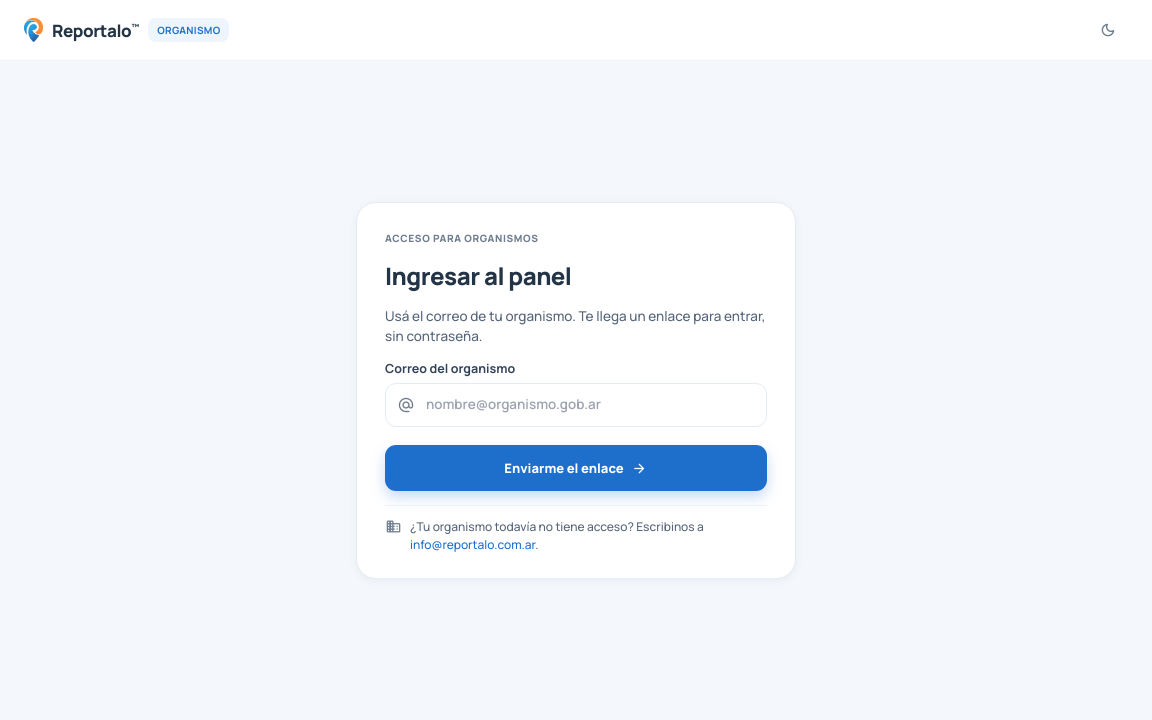
Test: REP-3747 · ingreso del panel › UT-3747-I3: formato inválido o falla de red: lo dice y no cambia de pantalla
Type "sin-arroba" into the field labelled "Correo del organismo". click: (576, 405)
box: [385,383,767,427]
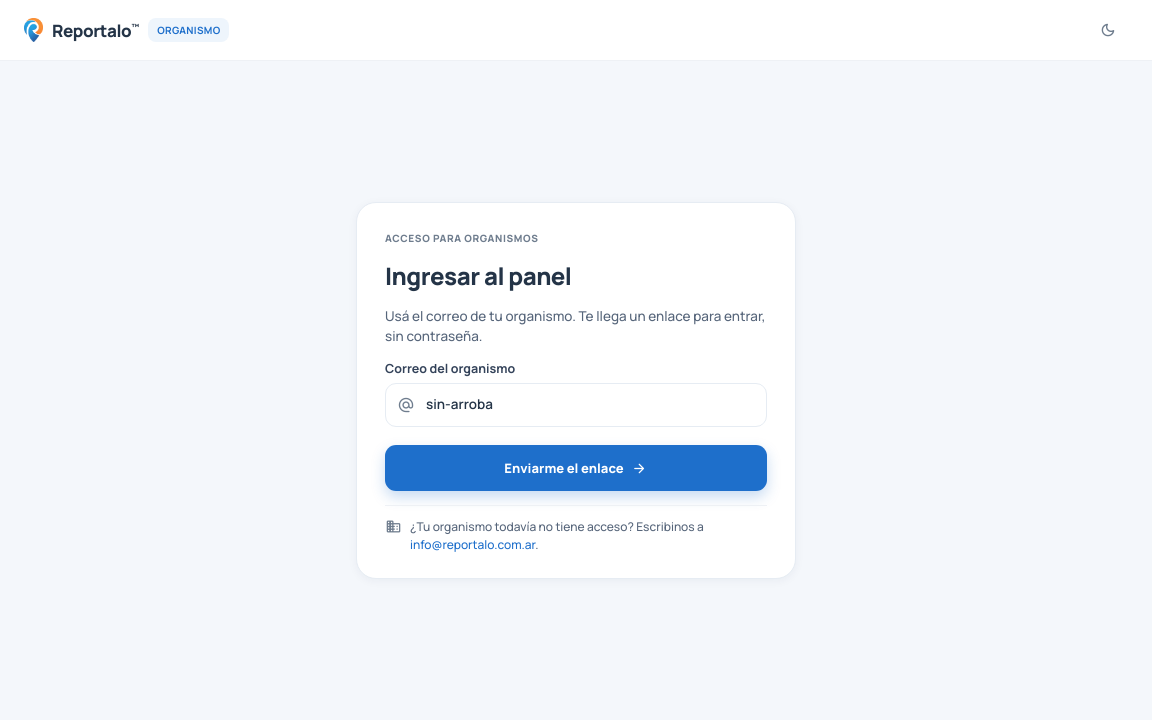
Click the button "Enviarme el enlace". click: (576, 468)
box: [385,445,767,491]
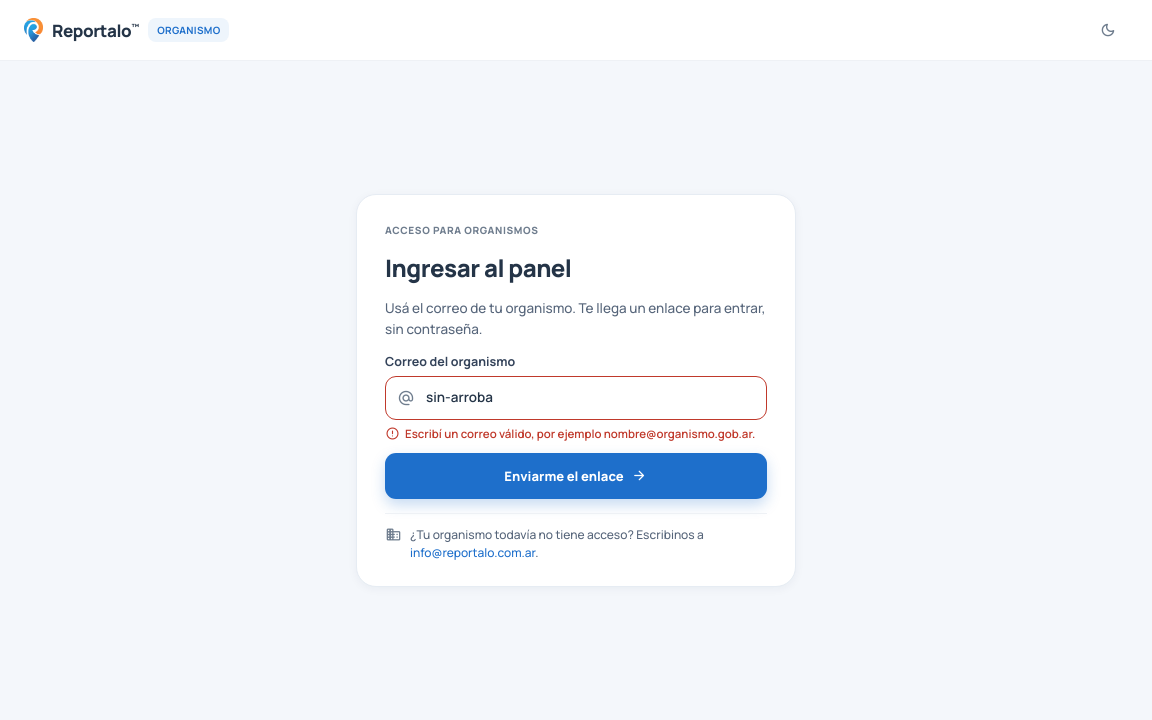
Result: the message shows "Escribí un correo válido" at [405,426,755,441]
Replace the text in the field labelled "Correo del organismo" with "operador@prueba.ar". click: (576, 398)
box: [385,376,767,420]
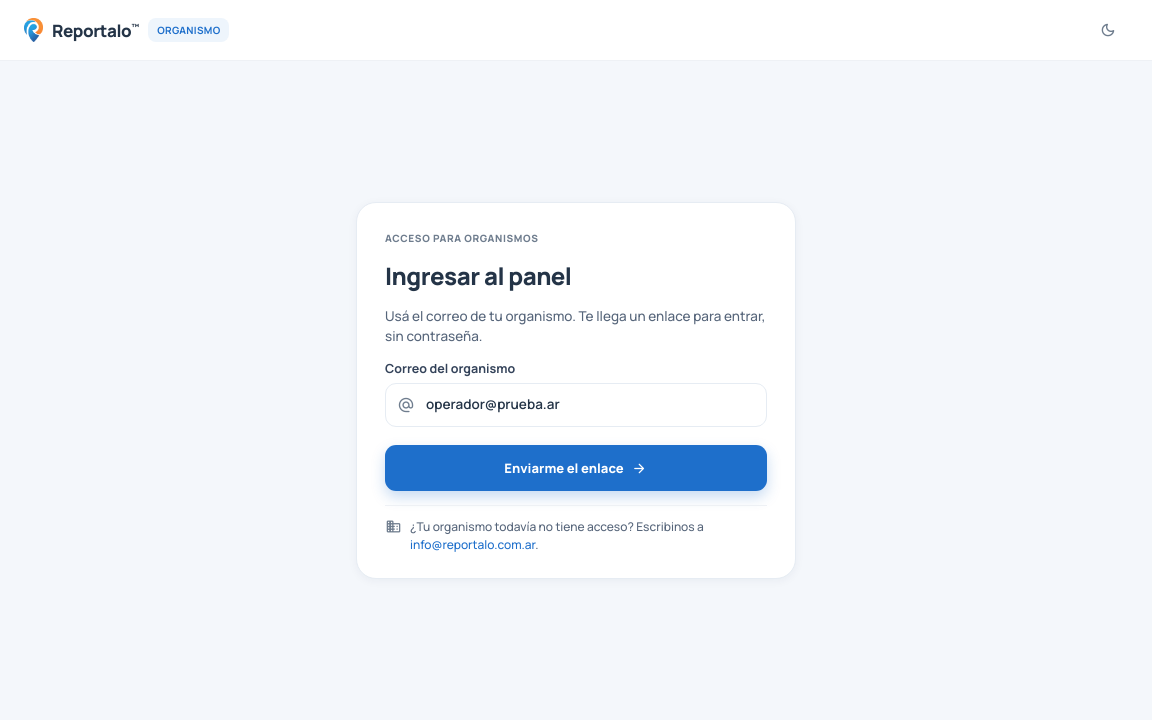
Click the button "Enviarme el enlace". click: (576, 468)
box: [385,445,767,491]
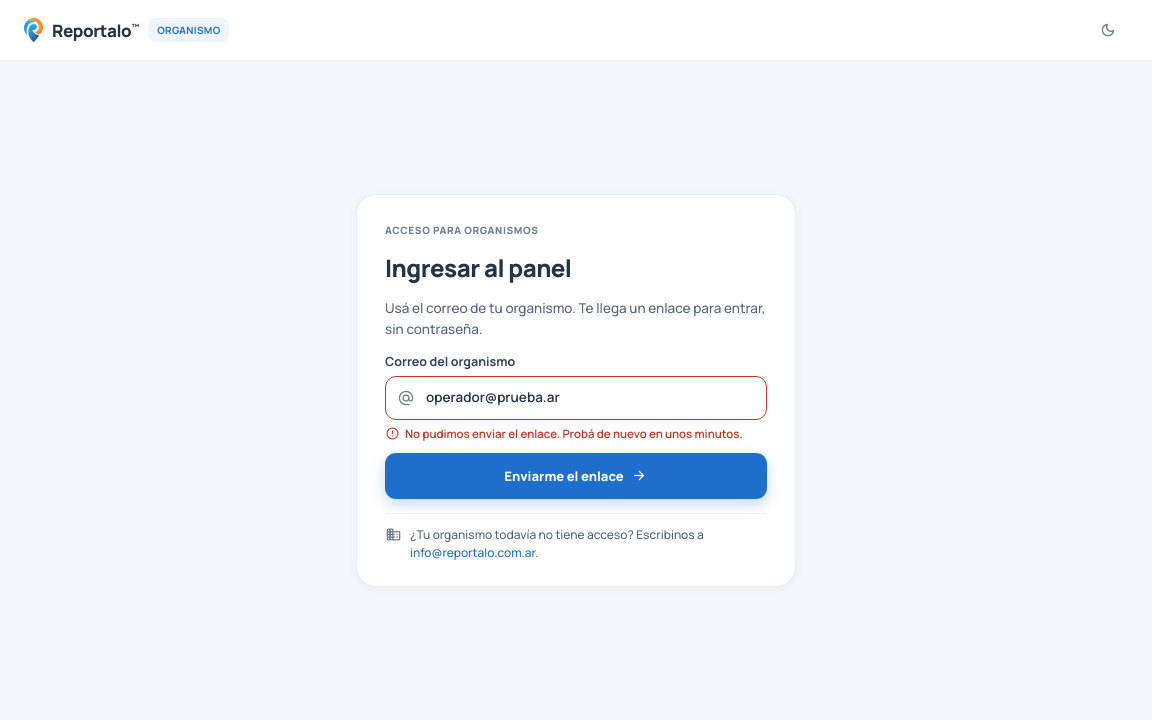
Result: the message shows "No pudimos enviar el enlace" at [405,426,743,441]
